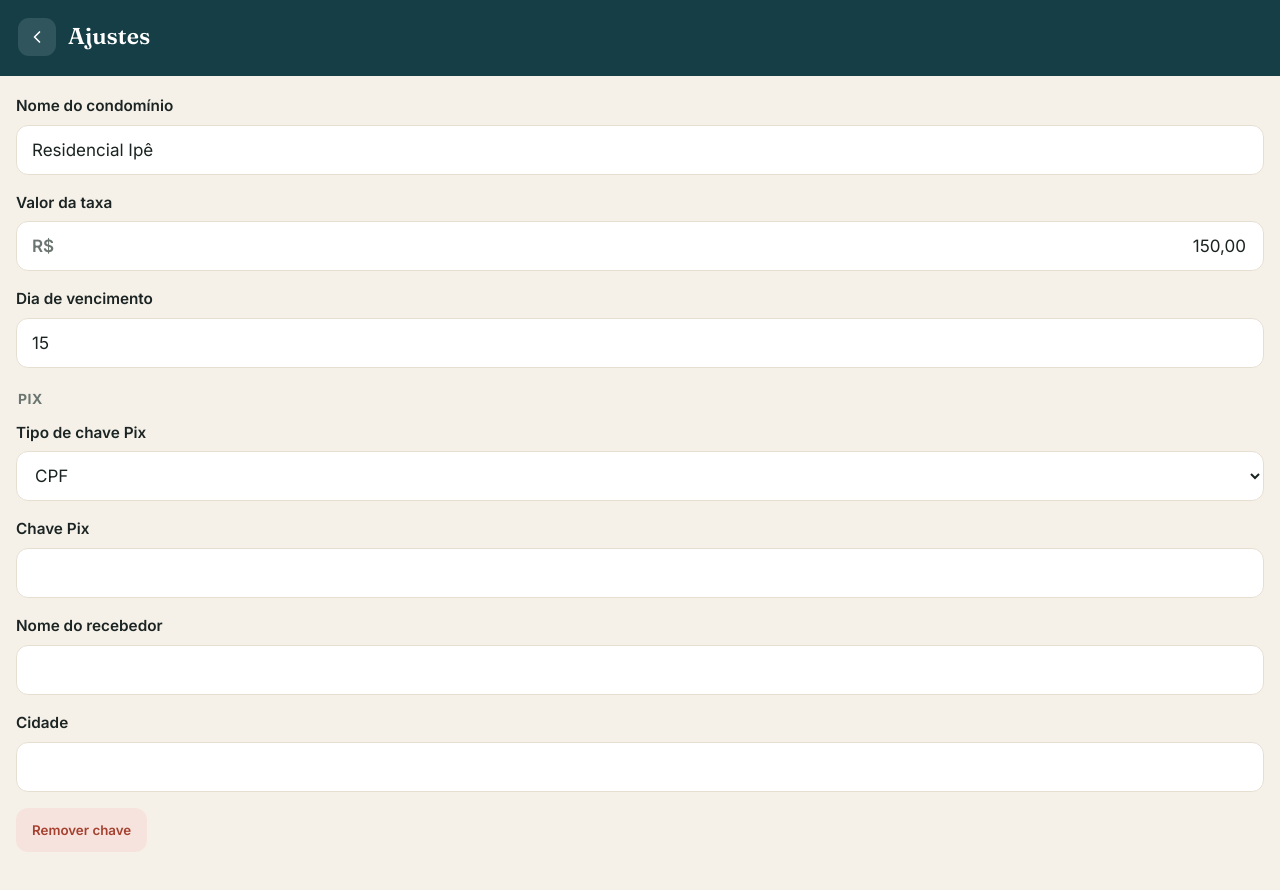
Test case: SettingsScreen › shows an error and keeps the old name when the rename is rejected
Step 1. Replace the text in the field showing "Residencial Ipê" with "Outro" → (640, 150), box x1=16 y1=125 x2=1264 y2=175
(page scrolled)
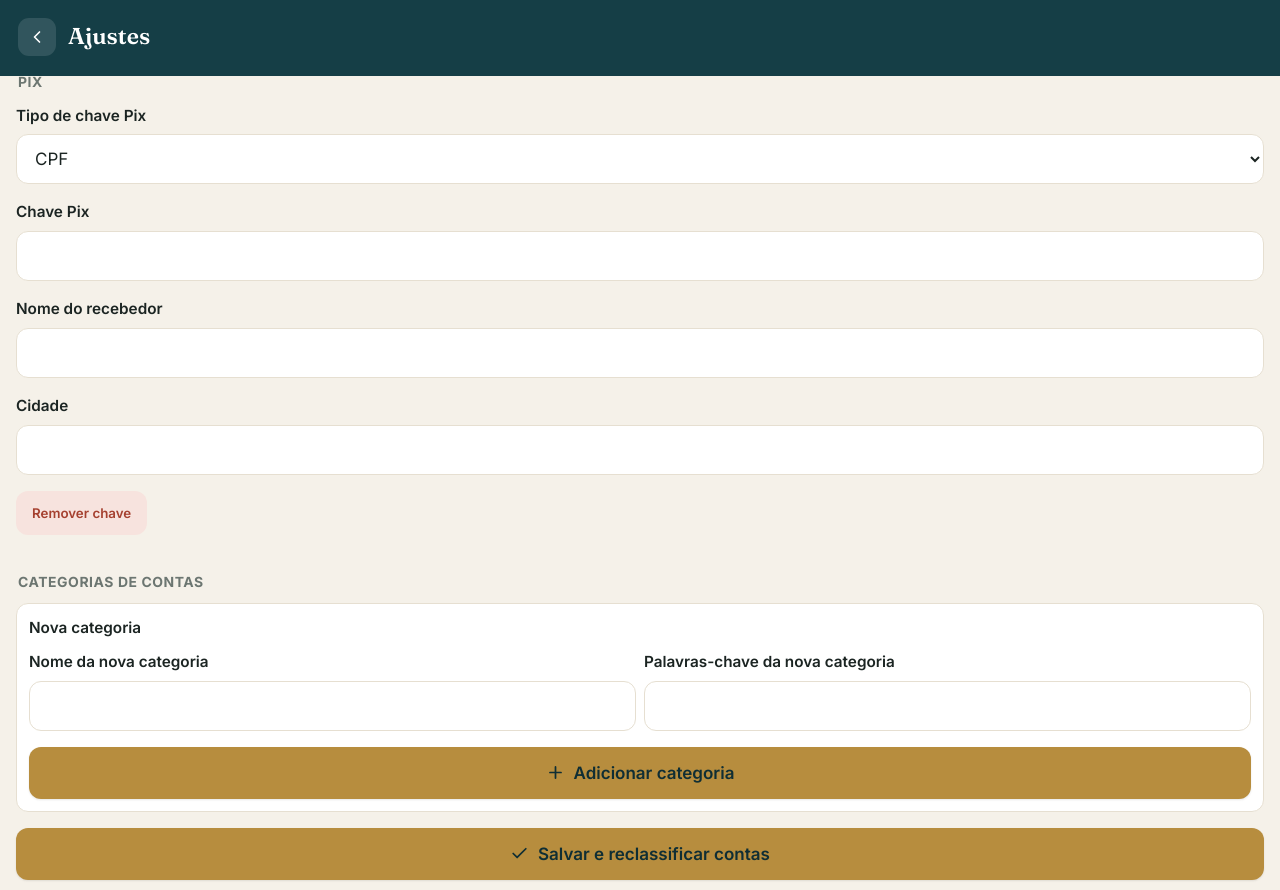
Step 2. Click the button "Salvar e reclassificar contas" → (640, 854), box x1=16 y1=828 x2=1264 y2=880
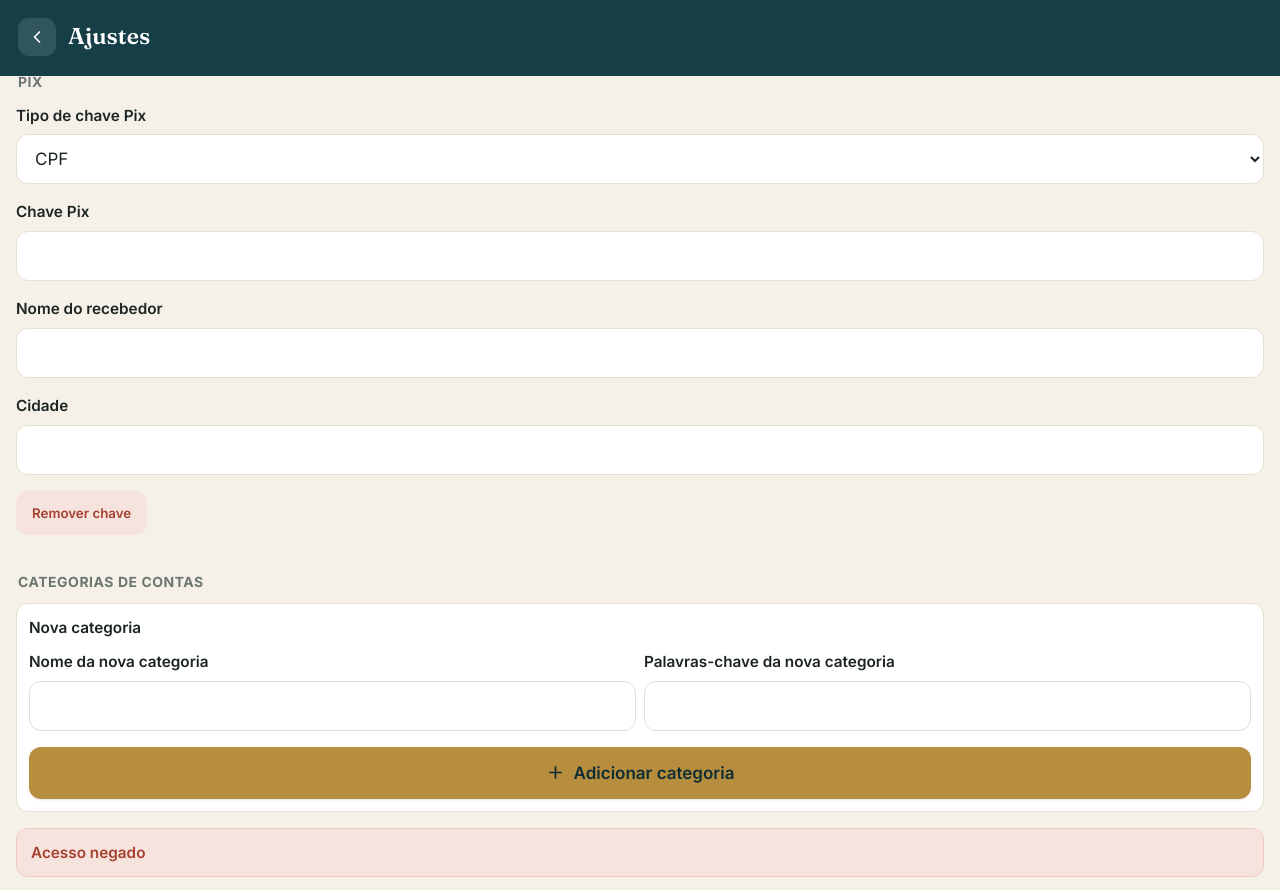
expect the message reads "Acesso negado": met, box x1=31 y1=842 x2=146 y2=862
